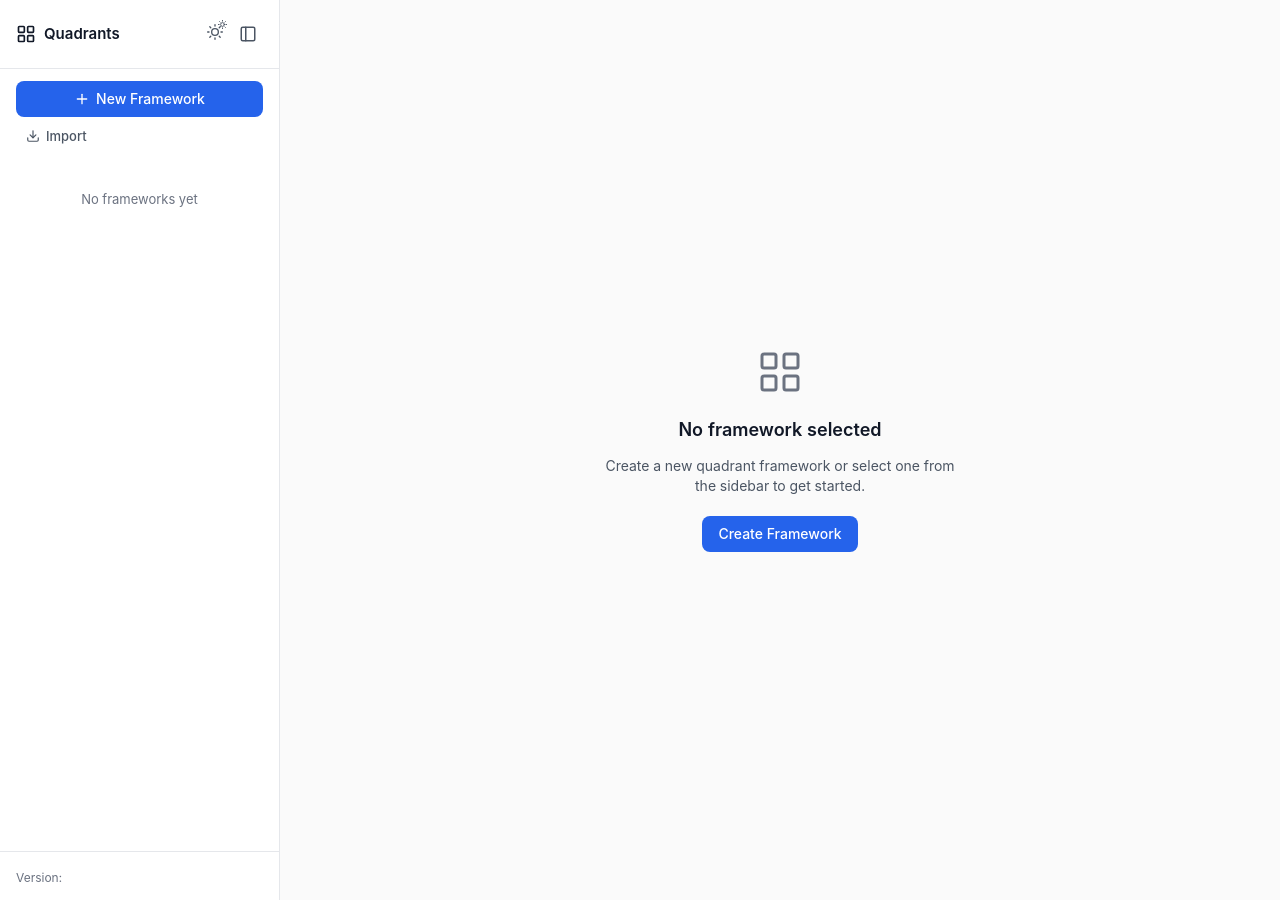
Test case: App › shows an error toast when persisting to localStorage fails (BUG-010)
Expected: the text "could not be saved" is not shown
Click the button "Create Framework" at (780, 534), box 702,516 -> 858,552
(page scrolled)
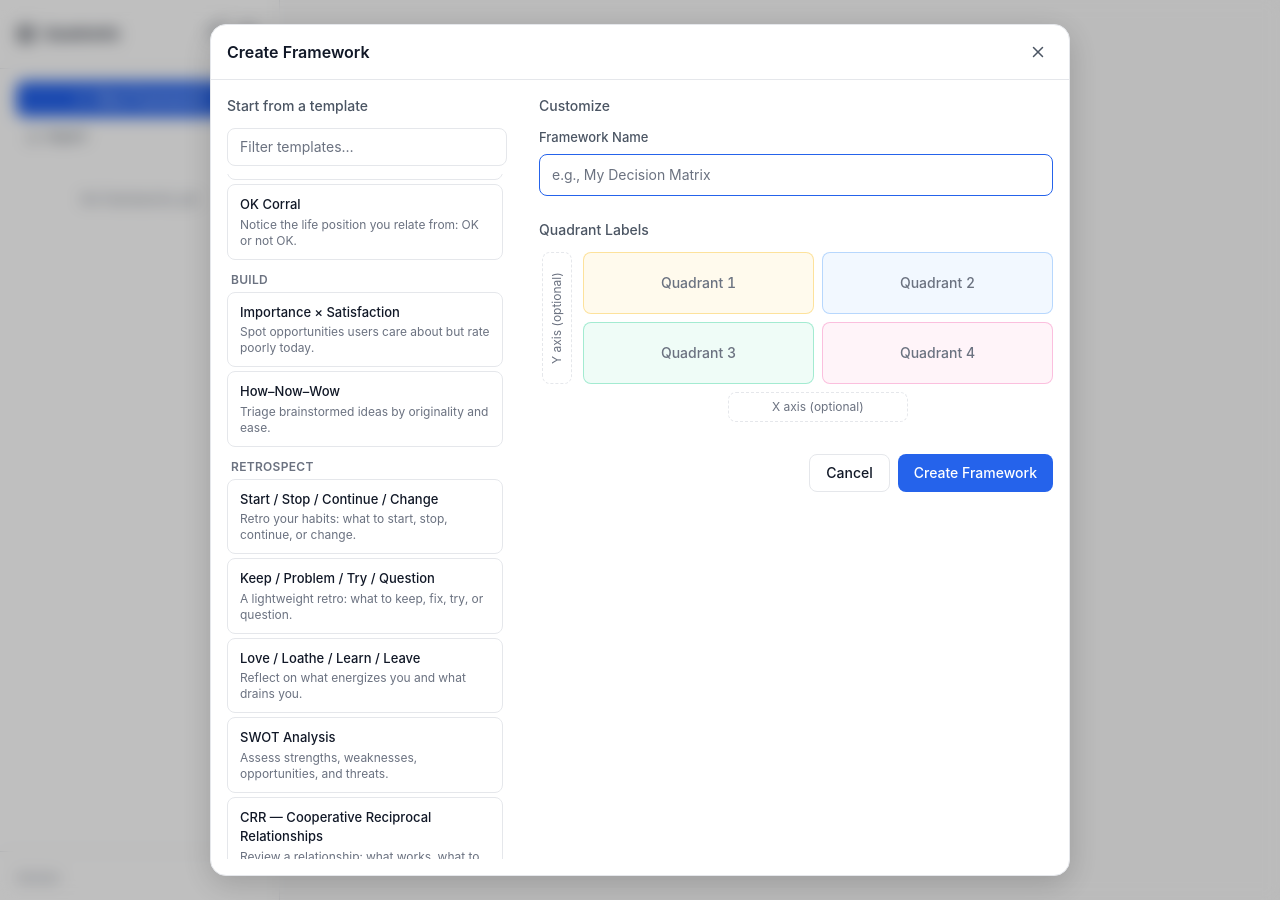
Click the button "Start / Stop" at (365, 516), box 227,478 -> 503,554
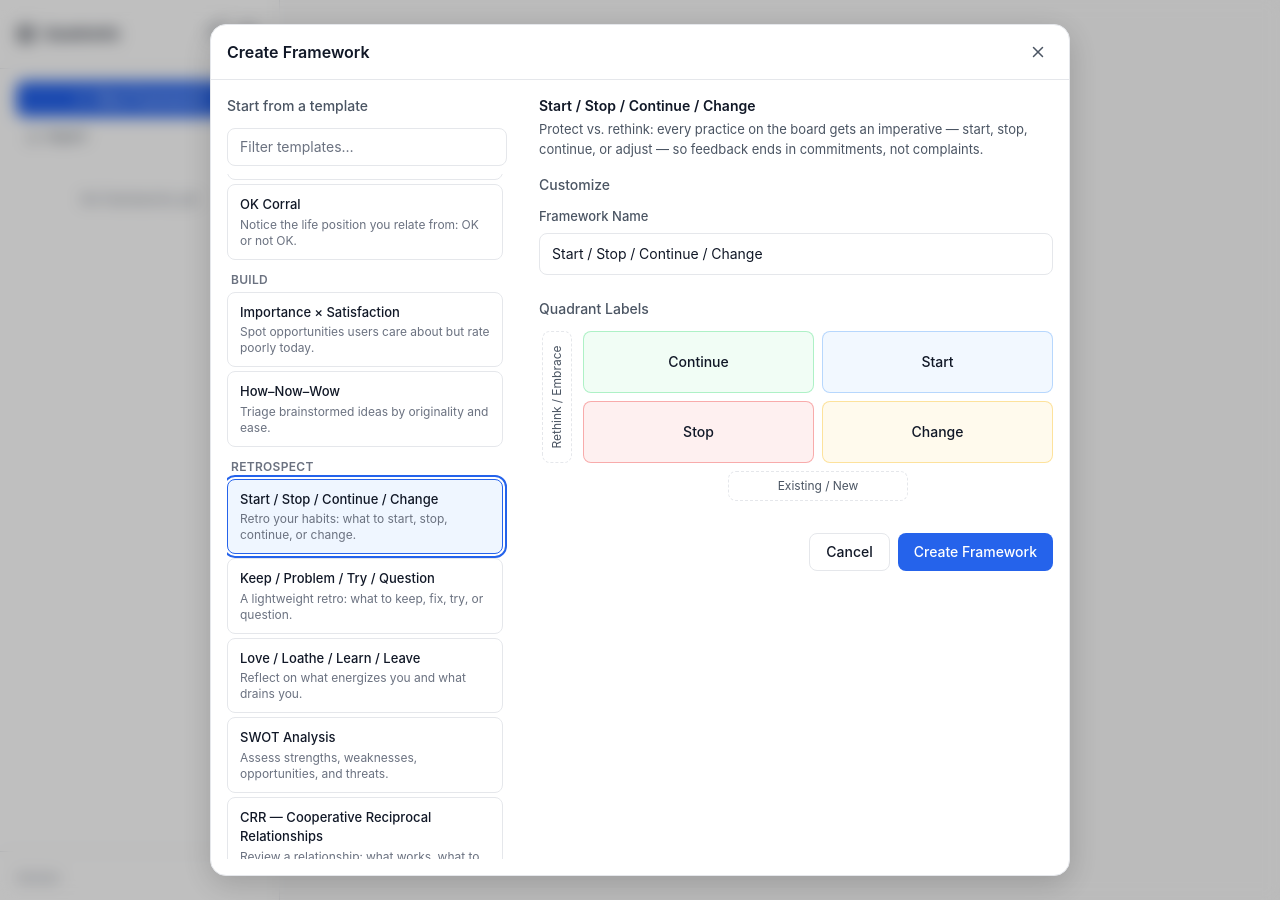
Click the button "Create Framework" at (975, 552), box 898,532 -> 1053,570
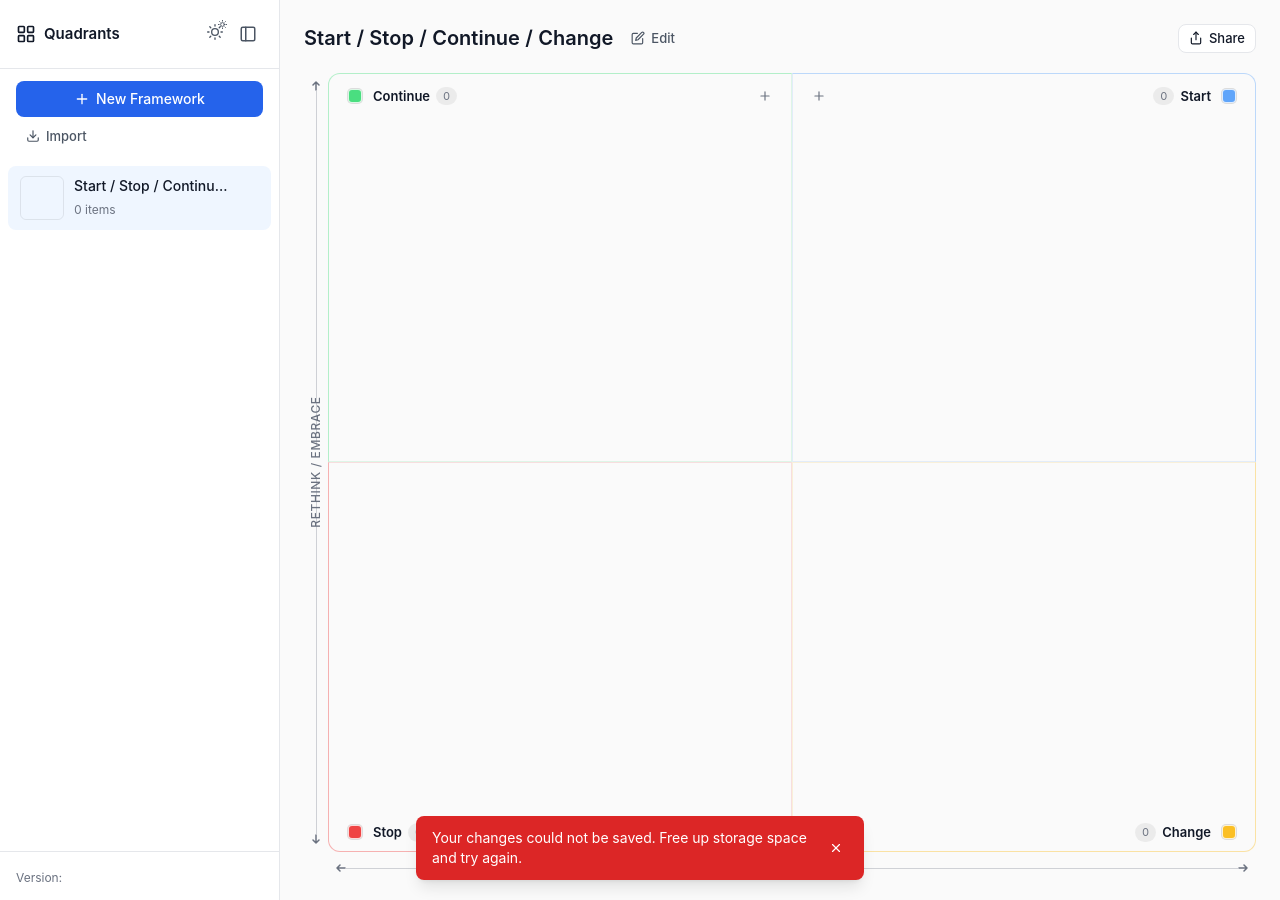
Result: the text "could not be saved" is shown at 432,829 -> 807,866
